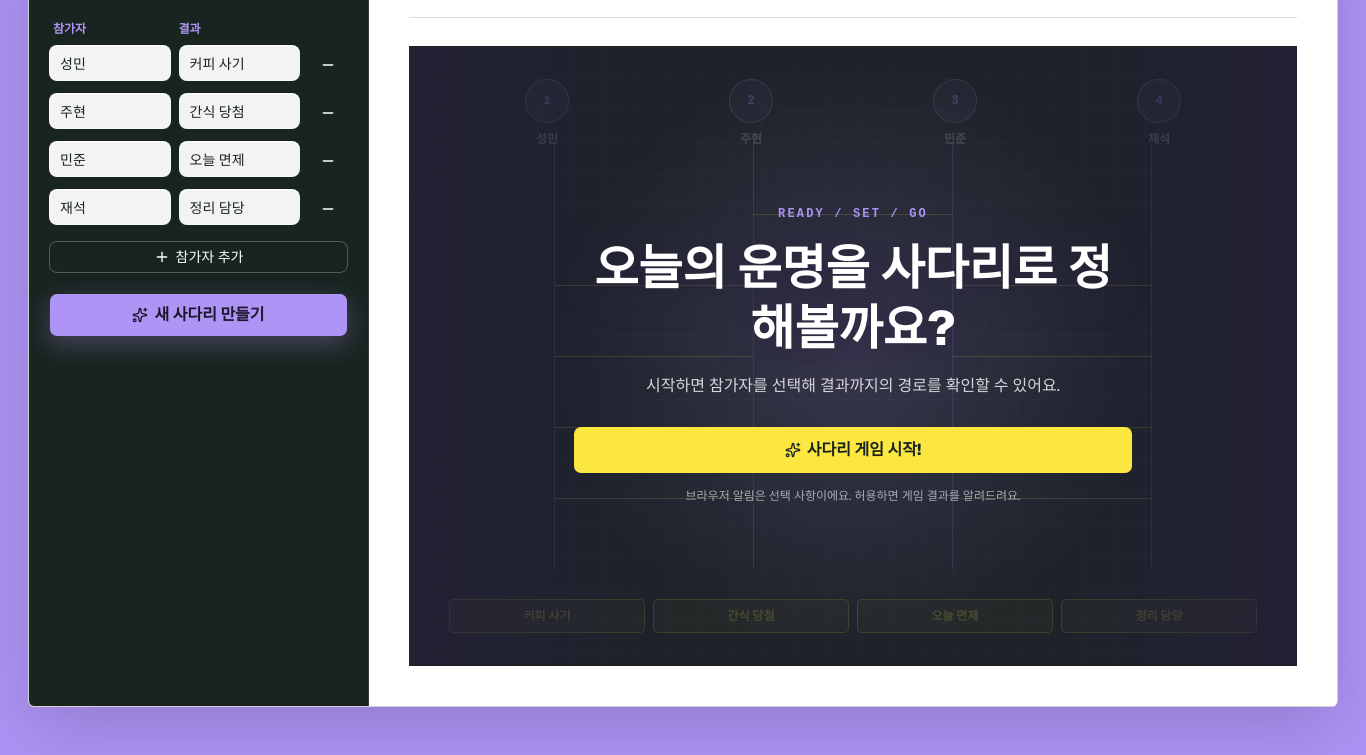
Test: LadderGame › 전체 경로를 캔버스로 그리고 도착 결과를 표시한다
(page scrolled)
Click the button "사다리 게임 시작!" at x=853, y=450, box left=573, top=426, right=1133, bottom=474
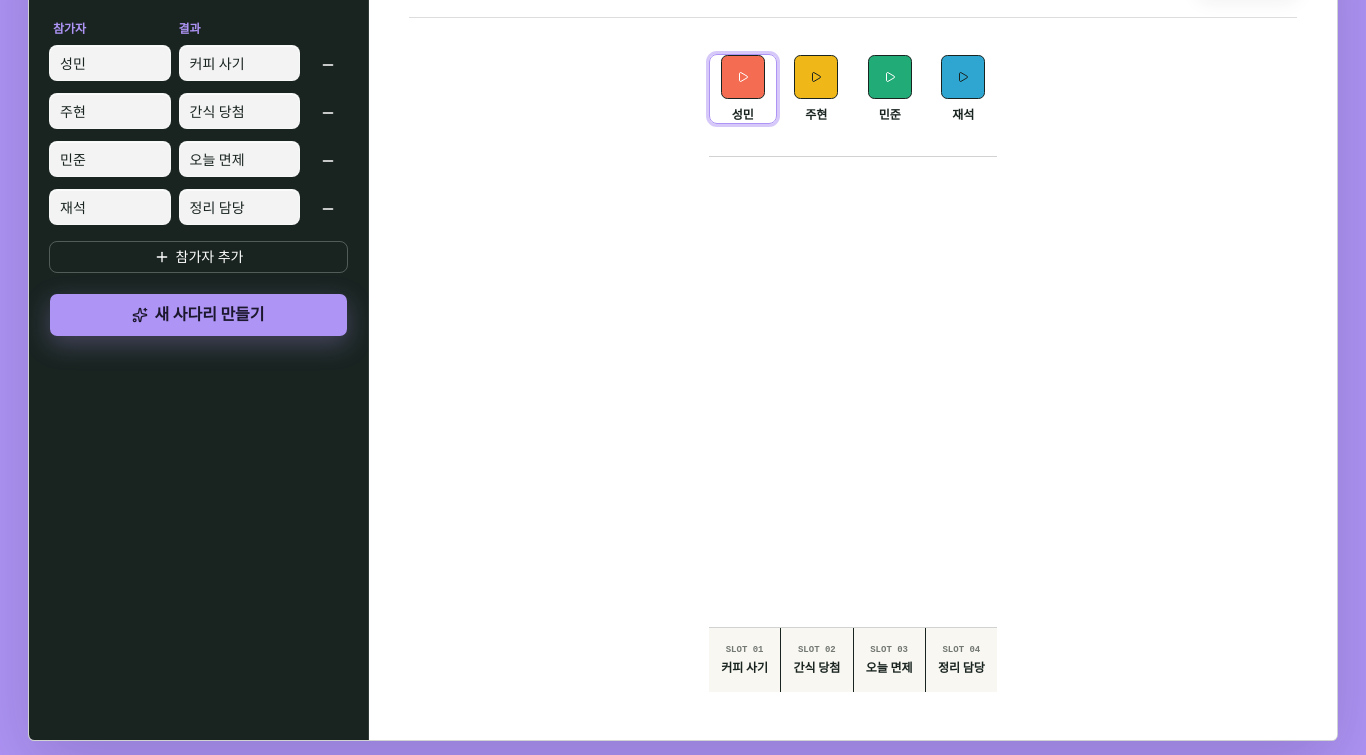
Click the button with aria-label "성민 경로 확인" at x=743, y=89, box left=709, top=54, right=776, bottom=124
(page scrolled)
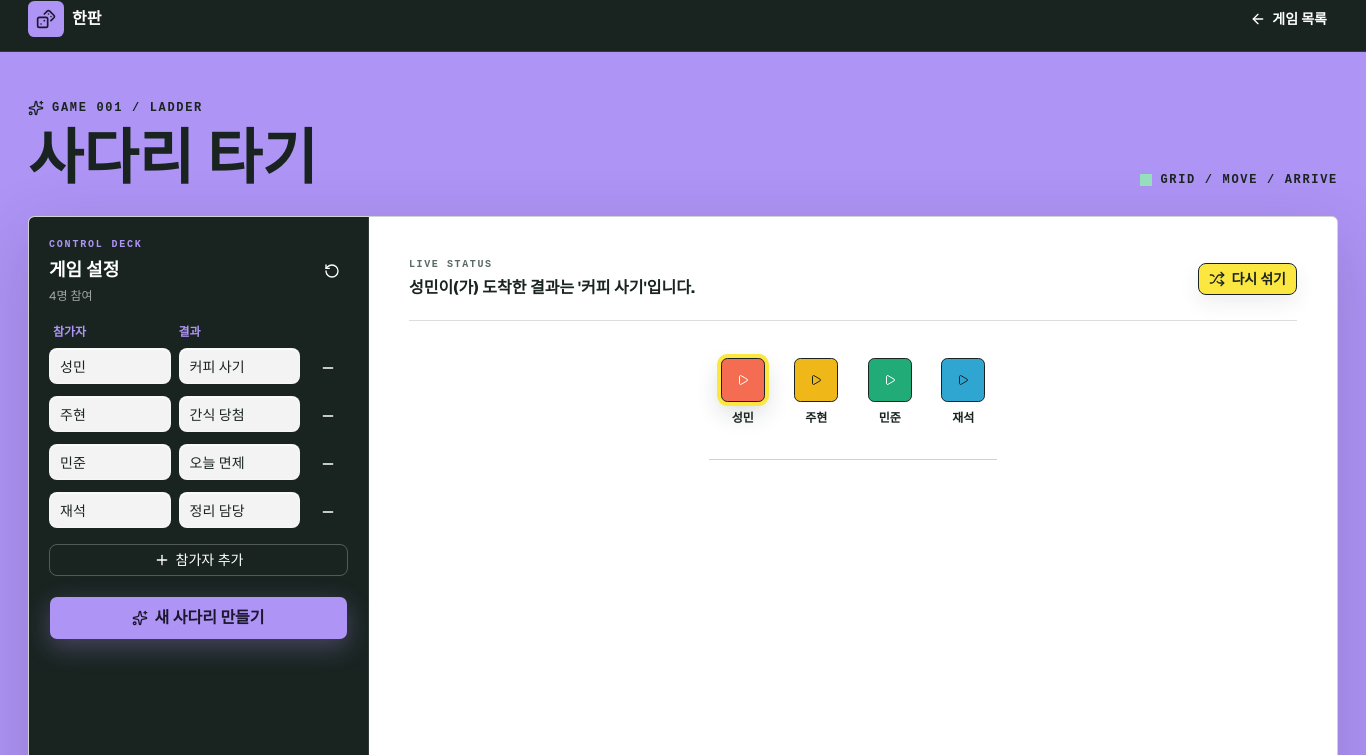
Expected: the text with test id "ladder-result-message" reads "성민이(가) 도착한 결과는 '커피 사기'입니다.", left=409, top=277, right=695, bottom=298
